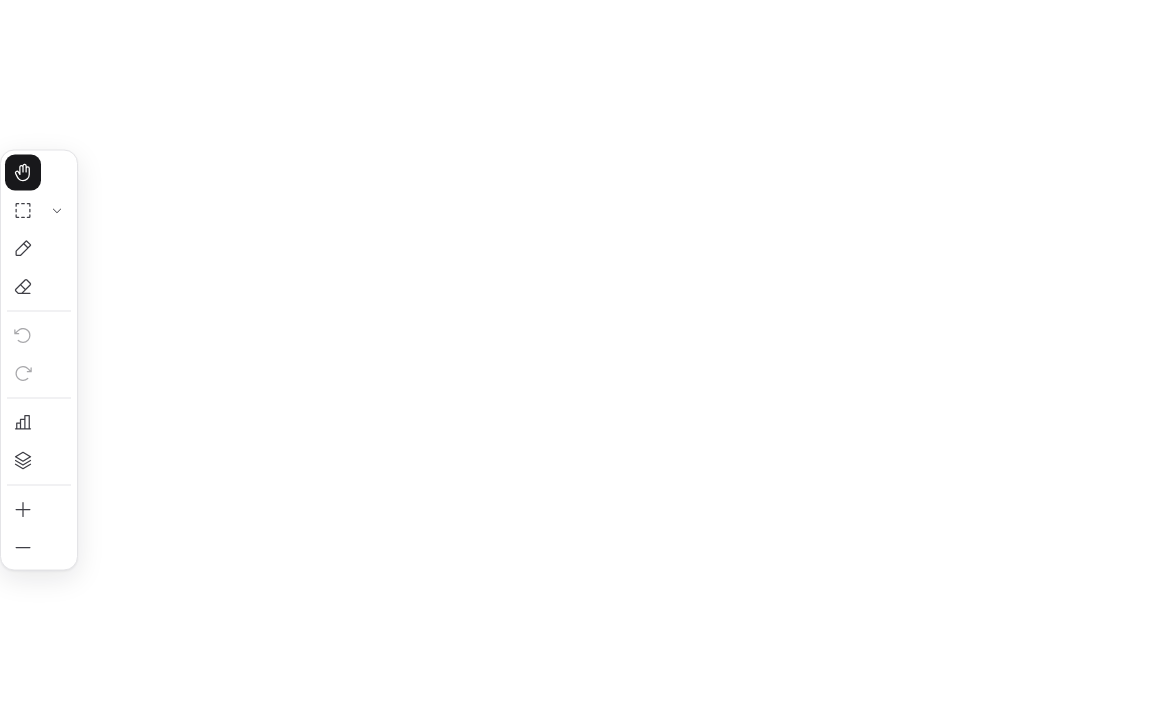
MapTools › has only the base map when nothing lies over it
Click the button named "Layers": x=23, y=460 [5, 442, 41, 478]
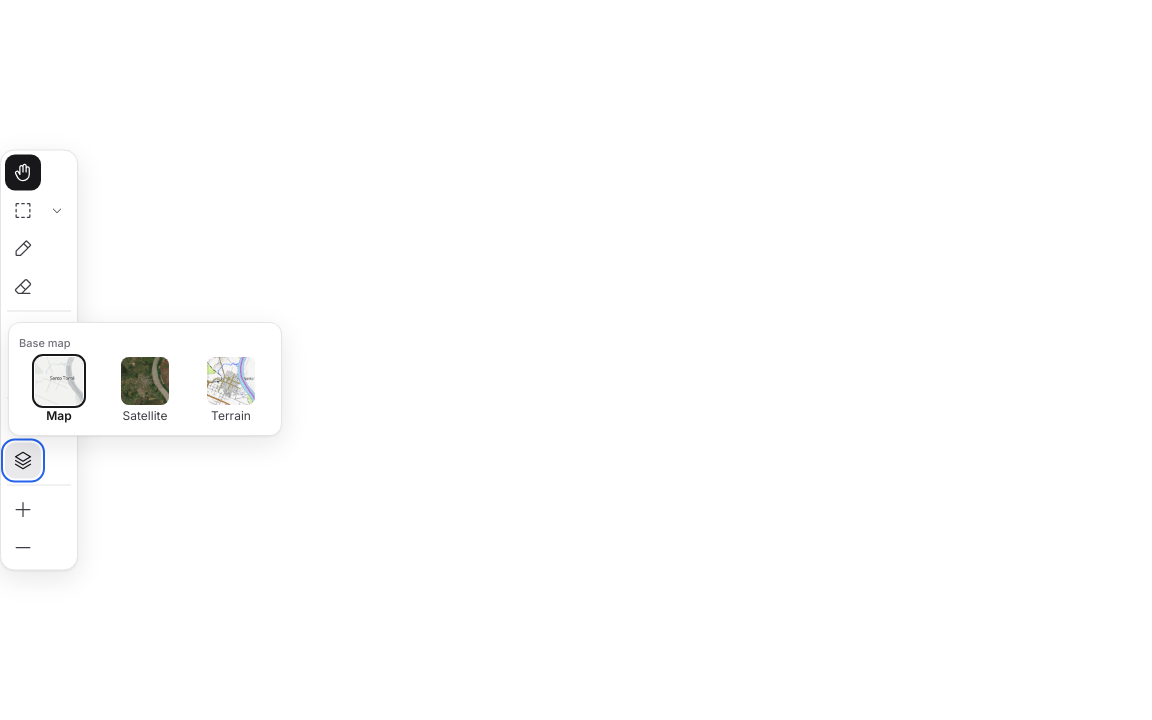
Now the element named "Base map" is shown, box [17, 355, 273, 427]
